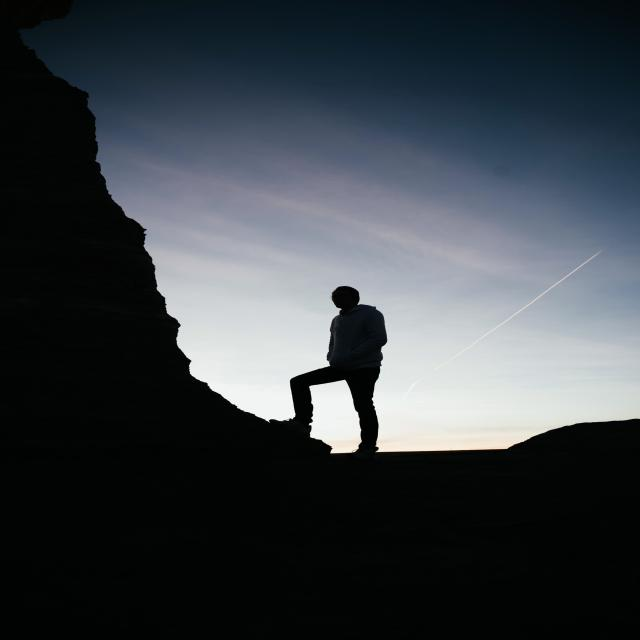adult: (264, 283, 389, 457)
